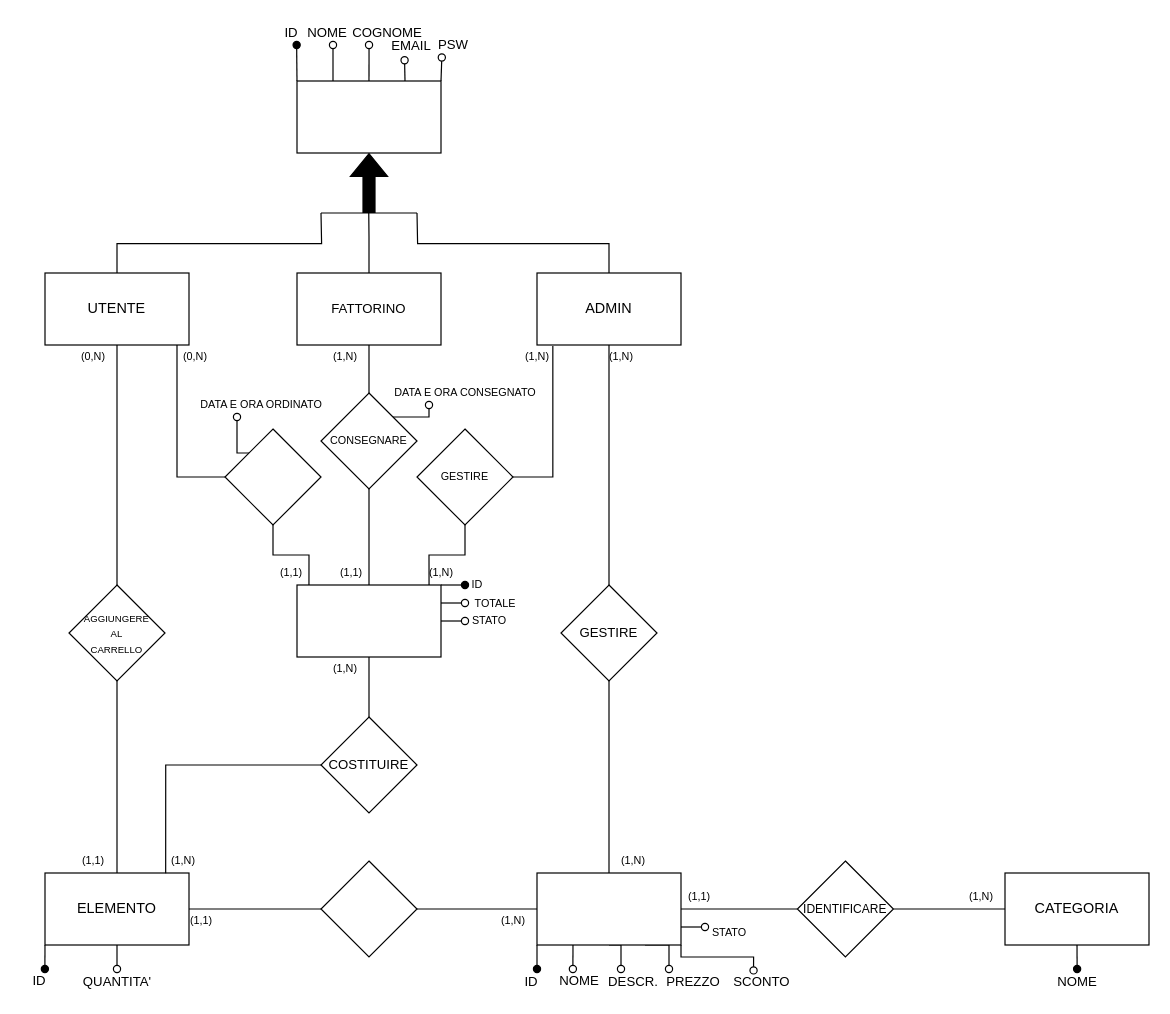
Some shapes in this 1170 by 1014 pixel diagram are drawn without their labels. The centre of each missing label's shape, as x and y in pixels:
"CARATTERIZZARE" belongs at (368,908).
"EFFETTUARE" belongs at (272,476).
"ORDINE" belongs at (368,620).
"PERSONA" belongs at (368,116).
"PRODOTTO" belongs at (608,908).
